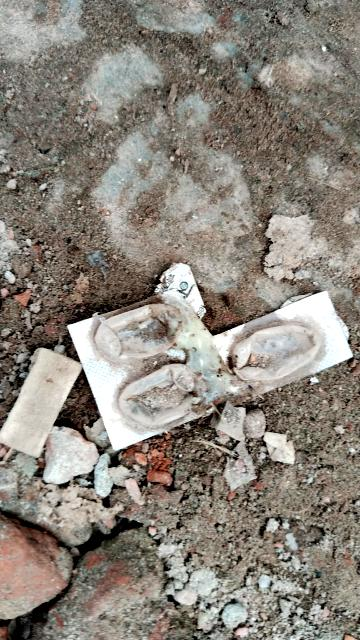medicine: (60, 214, 360, 495)
